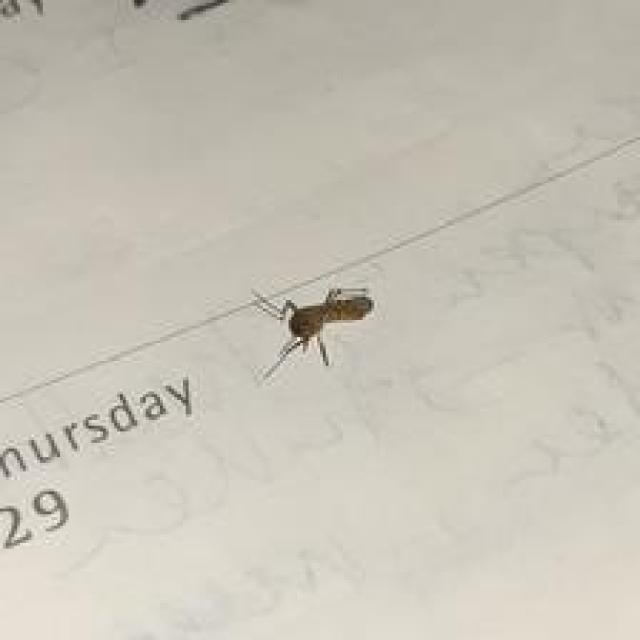Culex: (249, 284, 374, 382)
